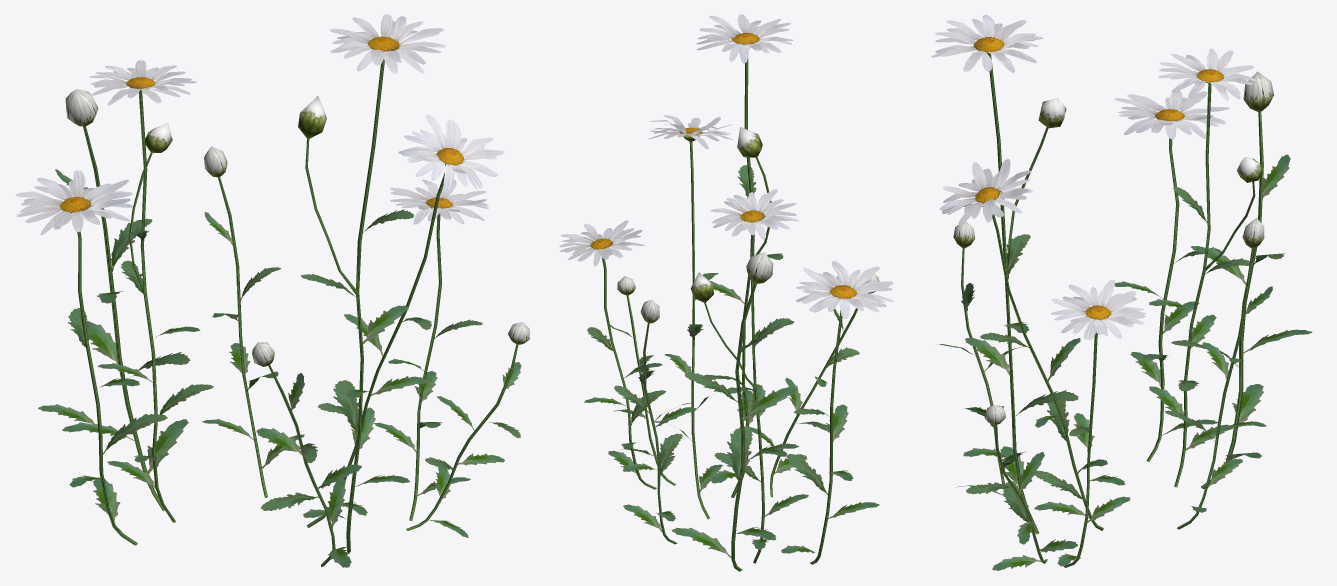
The model's file is Daisy-group3.fbx.
3 views of the same model, side by side, from view 1: azimuth 30°, elevation 25°; view 2: azimuth 150°, elevation 25°; view 3: azimuth 270°, elevation 25° (orthographic). The views are drawn at different scales.
Visible parts, largest first — view 1: Daisy-group3_LOD0; view 2: Daisy-group3_LOD0; view 3: Daisy-group3_LOD0.
Part boxes in pixels (bbox=[...]): Daisy-group3_LOD0: bbox=[15, 14, 529, 567]; Daisy-group3_LOD0: bbox=[559, 14, 893, 571]; Daisy-group3_LOD0: bbox=[931, 14, 1312, 570].
Size of what is drawn, in the model's own units: 81.05 by 96.9 by 69.47.
